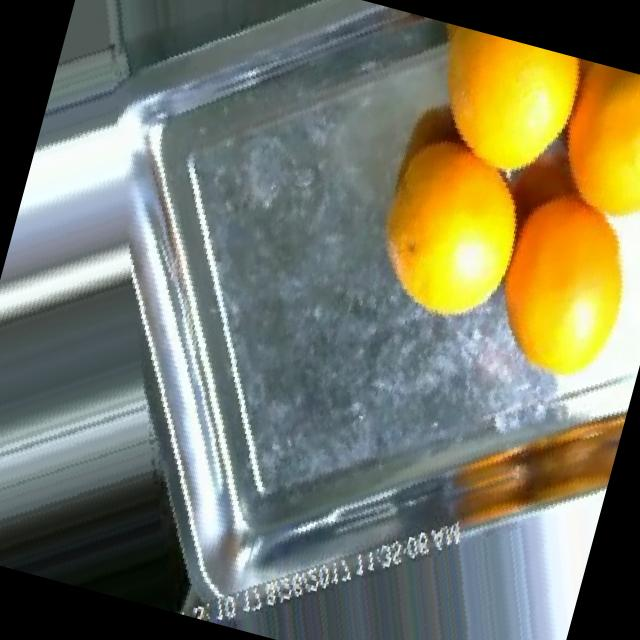Fruit: (336, 110, 557, 358), (460, 161, 640, 420)
